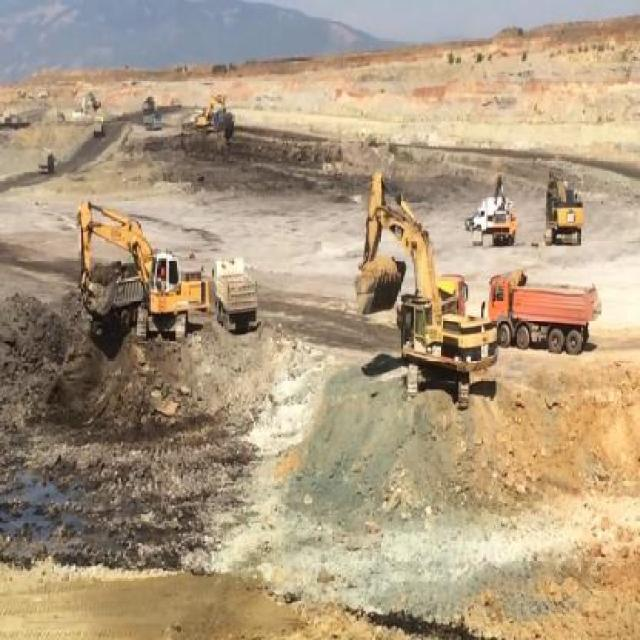dump_truck: (487, 264, 602, 358), (209, 262, 262, 331), (106, 271, 140, 327), (490, 210, 518, 247)
excavator: (350, 174, 496, 409), (65, 201, 209, 356), (544, 168, 582, 250)
